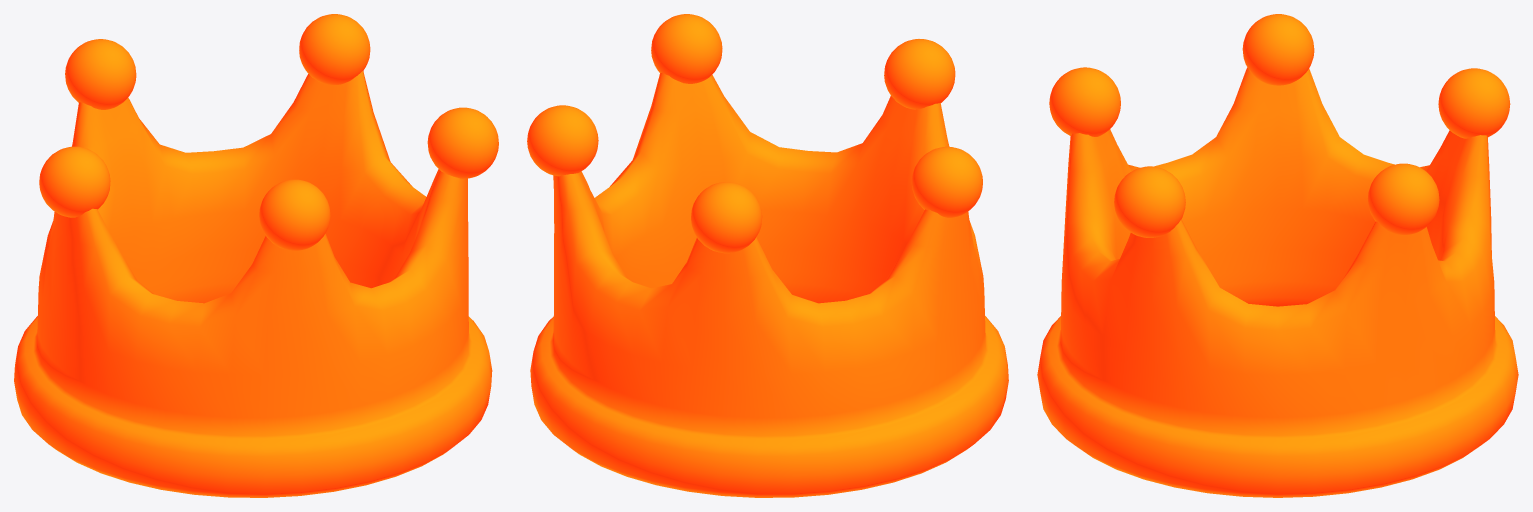
Rendered from Taç.fbx.
3 renders of one model, left to right at view 1: azimuth 30°, elevation 25°; view 2: azimuth 150°, elevation 25°; view 3: azimuth 270°, elevation 25°, orthographic.
Visible parts, largest first — view 1: Taç.001; view 2: Taç.001; view 3: Taç.001.
Part boxes in pixels (<box>): Taç.001: <box>14,14,498,497</box>; Taç.001: <box>527,14,1008,497</box>; Taç.001: <box>1037,14,1518,497</box>.
Bounding box in the file's own units: 219 × 153 × 218.
